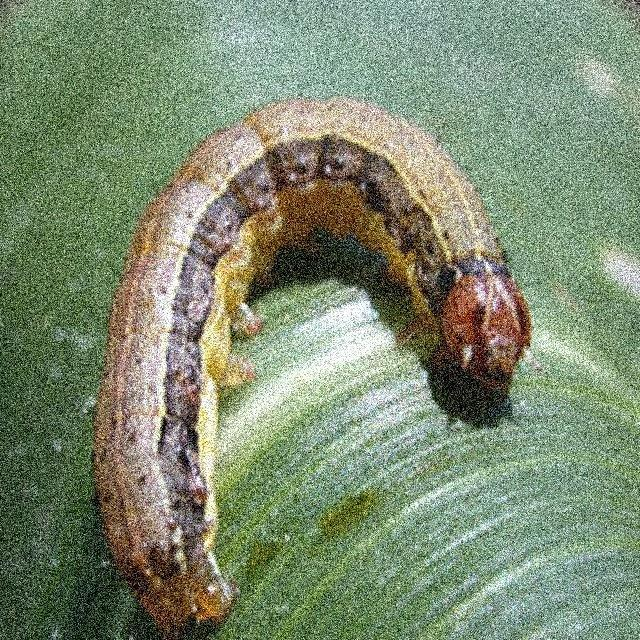worm: (91, 96, 534, 638)
